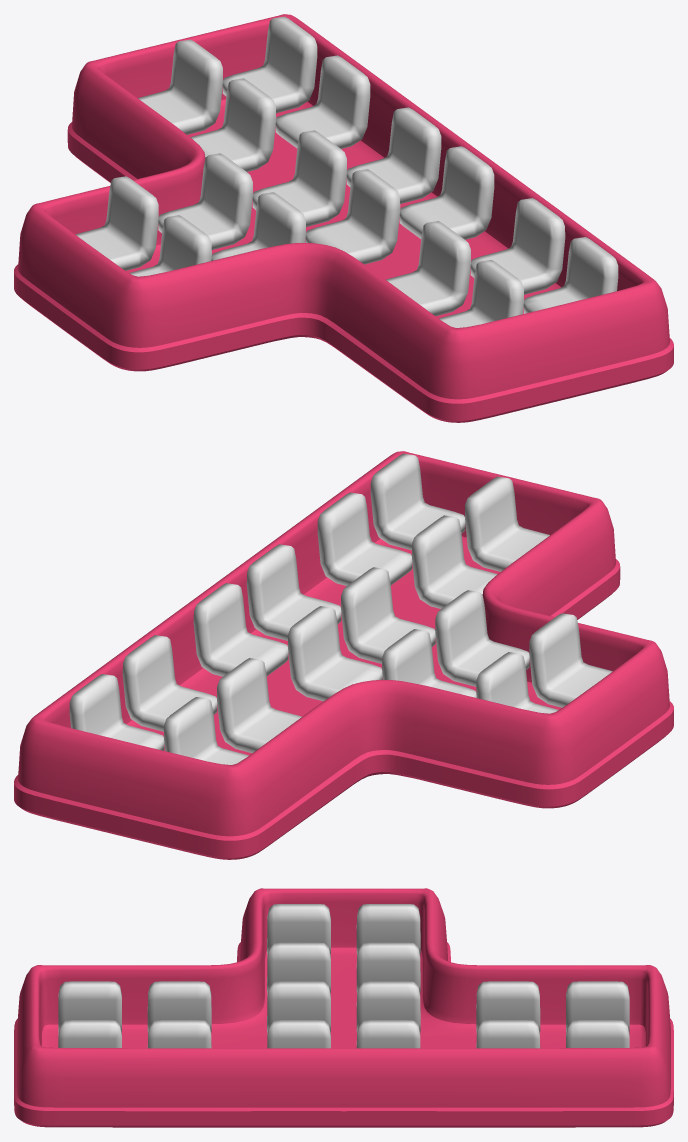
The model's file is car_T_1_T2.fbx.
3 views of the same model, one above another, from view 1: azimuth 30°, elevation 25°; view 2: azimuth 150°, elevation 25°; view 3: azimuth 270°, elevation 25° (orthographic). The views are drawn at different scales.
Visible parts, largest first — view 1: Cube.177, Cube.176, Cube.175; view 2: Cube.177, Cube.176, Cube.175; view 3: Cube.177, Cube.175, Cube.176.
Boxes of the visible parts, x1,y1,x2,y2 form: Cube.177: (14,14,673,422); Cube.176: (138,16,618,327); Cube.175: (75,107,494,276); Cube.177: (14,451,673,859); Cube.176: (69,453,549,764); Cube.175: (193,544,612,713); Cube.177: (14,888,673,1127); Cube.175: (267,904,420,1048); Cube.176: (58,981,629,1048).
Bounding box in the file's own units: 360 × 83.38 × 568.
